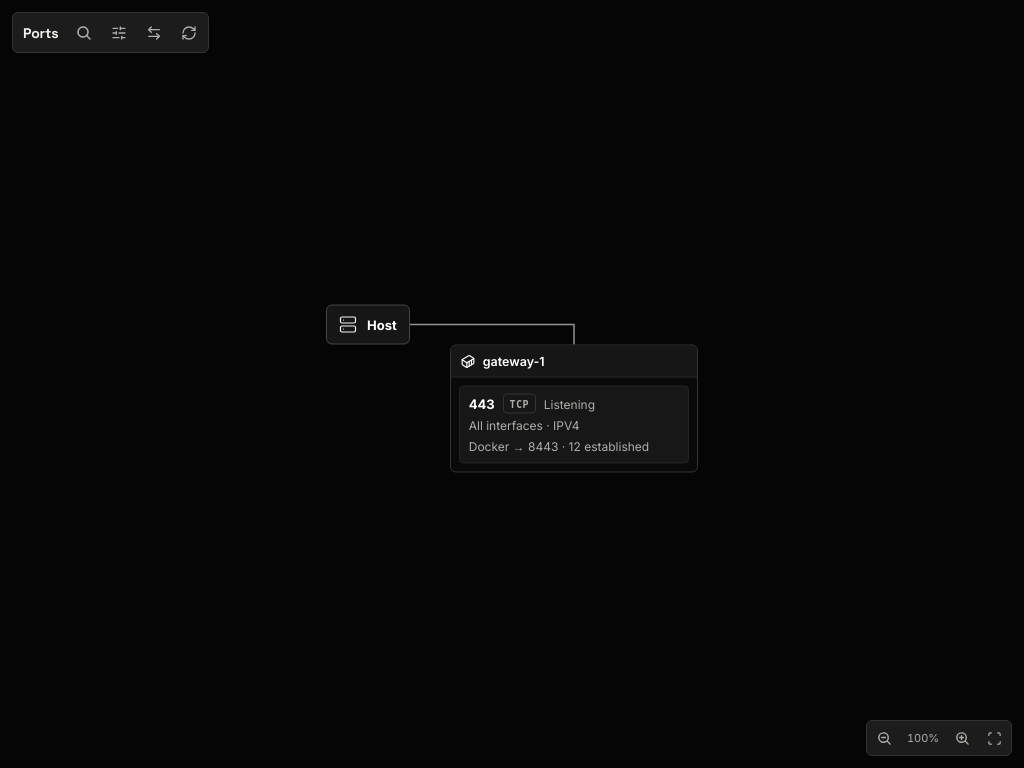
it: uses a compact filter header and visible labels without an empty footer
Check: the button "12 established" is shown, box [459,386,689,464]
Click the button named "Filter ports": {"x": 119, "y": 32} [103,17,134,48]
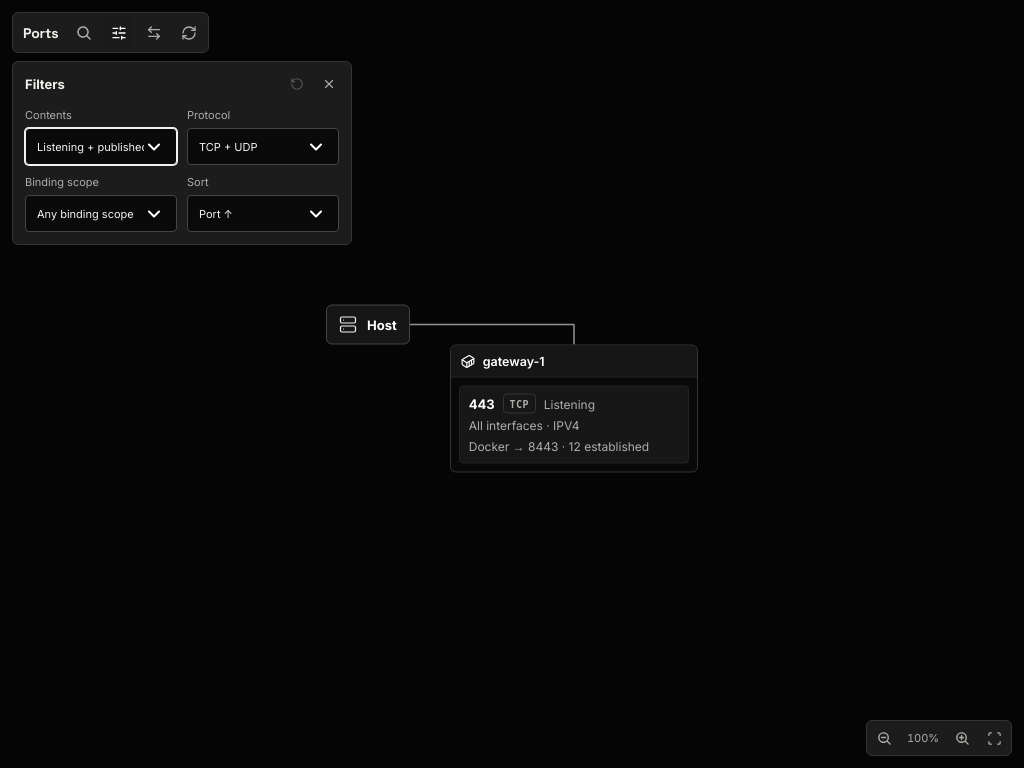
Check: the dropdown labelled "Contents" is shown, box [25,128,177,165]
Check: the dropdown labelled "Protocol" is shown, box [187,128,339,165]
Check: the dropdown labelled "Binding scope" is shown, box [25,195,177,232]
